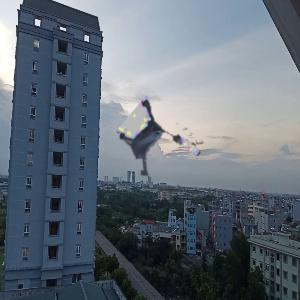drone: (112, 112, 195, 195)
